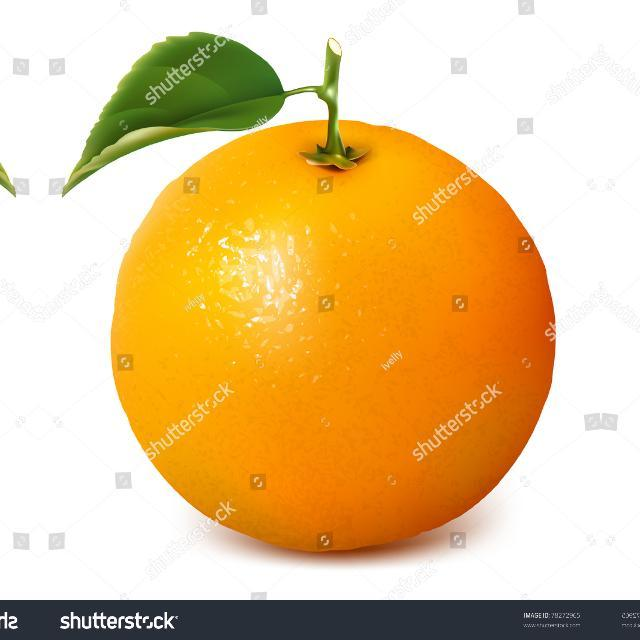Orange: (108, 117, 557, 554)
